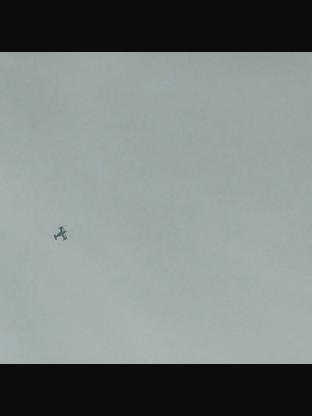Tornado: (53, 224, 68, 242)
